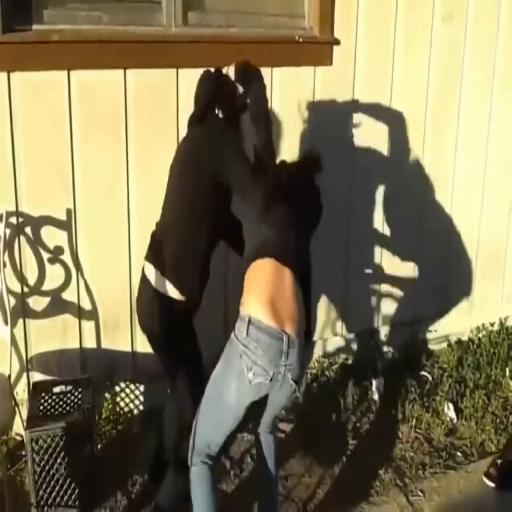violencia: (131, 43, 326, 512)
